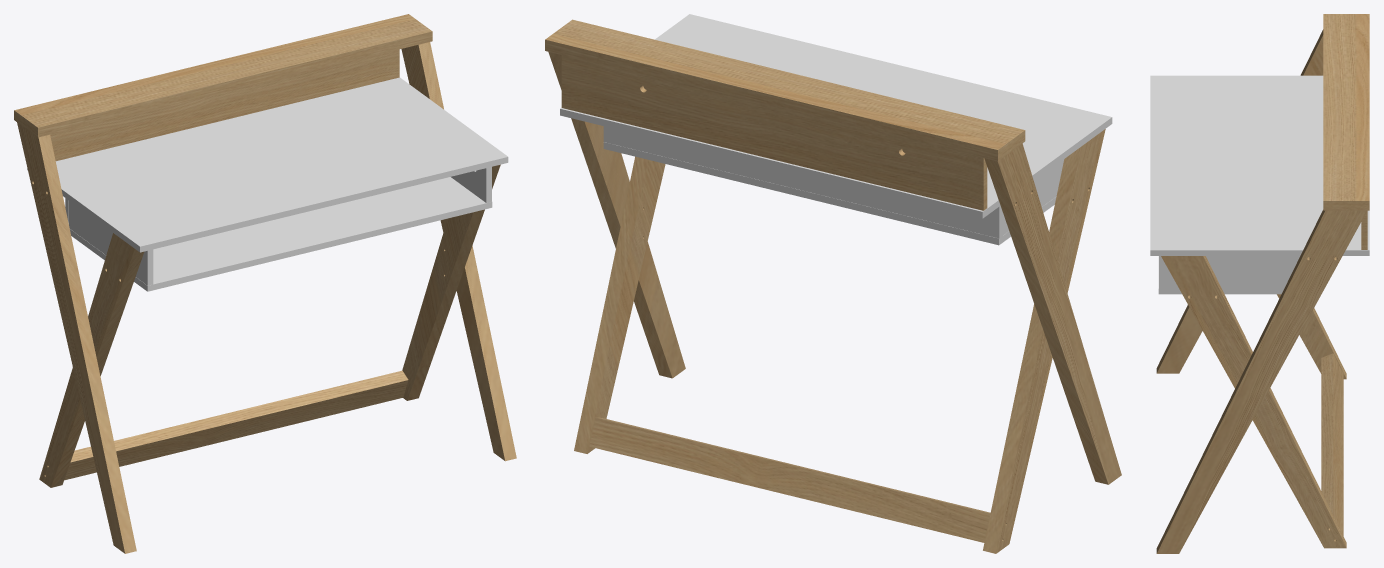
3 renders of one model, left to right at view 1: azimuth 30°, elevation 25°; view 2: azimuth 150°, elevation 25°; view 3: azimuth 270°, elevation 25°, orthographic. The views are drawn at different scales.
Parts seen in each view (by area): view 1: A334093-TAPASXXXTA, A334093-PISOSXXXPI, A334093-TAPASXXXSO, A334093-PATASXXXGR, A334093-FONDOSXXAB, A334093-PATASXXXTR, A334093-PATASXXXGR001, A334093-PATASXXXCH, A334093-PATASXXXCH001, A334093-COSTADOSCO, A334093-COSTADOSCO001; view 2: A334093-FONDOSXXAB, A334093-TAPASXXXTA, A334093-TAPASXXXSO, A334093-PATASXXXTR, A334093-PATASXXXGR, A334093-PATASXXXCH, A334093-PATASXXXCH001, A334093-PATASXXXGR001, A334093-FONDOSXXAJ, A334093-PISOSXXXPI, A334093-COSTADOSCO; view 3: A334093-TAPASXXXTA, A334093-PATASXXXGR001, A334093-TAPASXXXSO, A334093-PATASXXXCH001, A334093-PATASXXXTR, A334093-COSTADOSCO001, A334093-PATASXXXGR, A334093-PATASXXXCH, A334093-PISOSXXXPI.
Part boxes in pixels (bbox=[...]): A334093-TAPASXXXTA: bbox=[27, 77, 508, 252]; A334093-PISOSXXXPI: bbox=[70, 177, 492, 291]; A334093-TAPASXXXSO: bbox=[14, 14, 432, 137]; A334093-PATASXXXGR: bbox=[17, 122, 136, 553]; A334093-FONDOSXXAB: bbox=[50, 49, 399, 161]; A334093-PATASXXXTR: bbox=[64, 370, 408, 480]; A334093-PATASXXXGR001: bbox=[401, 42, 516, 461]; A334093-PATASXXXCH: bbox=[39, 233, 144, 487]; A334093-PATASXXXCH001: bbox=[402, 164, 500, 400]; A334093-COSTADOSCO: bbox=[69, 201, 153, 285]; A334093-COSTADOSCO001: bbox=[451, 167, 491, 202]; A334093-FONDOSXXAB: bbox=[561, 55, 987, 210]; A334093-TAPASXXXTA: bbox=[560, 14, 1112, 218]; A334093-TAPASXXXSO: bbox=[545, 19, 1025, 161]; A334093-PATASXXXTR: bbox=[589, 417, 990, 542]; A334093-PATASXXXGR: bbox=[984, 143, 1121, 484]; A334093-PATASXXXCH: bbox=[983, 129, 1105, 553]; A334093-PATASXXXCH001: bbox=[574, 156, 665, 453]; A334093-PATASXXXGR001: bbox=[548, 52, 685, 378]; A334093-FONDOSXXAJ: bbox=[603, 126, 1002, 238]; A334093-PISOSXXXPI: bbox=[603, 142, 1056, 245]; A334093-COSTADOSCO: bbox=[1003, 159, 1064, 235]; A334093-TAPASXXXTA: bbox=[1150, 75, 1369, 255]; A334093-PATASXXXGR001: bbox=[1156, 210, 1366, 553]; A334093-TAPASXXXSO: bbox=[1323, 14, 1369, 210]; A334093-PATASXXXCH001: bbox=[1161, 256, 1346, 548]; A334093-PATASXXXTR: bbox=[1321, 353, 1343, 535]; A334093-COSTADOSCO001: bbox=[1159, 256, 1299, 288]; A334093-PATASXXXGR: bbox=[1156, 29, 1323, 373]; A334093-PATASXXXCH: bbox=[1277, 294, 1346, 379]; A334093-PISOSXXXPI: bbox=[1158, 256, 1283, 294].
Bounding box in the file's own units: 1.05 × 0.925 × 0.52.
1 material, 1 textured.
